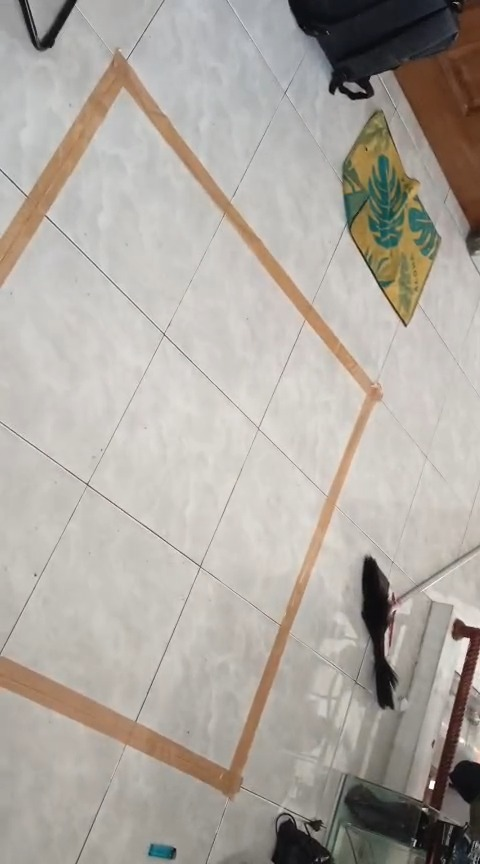floor marking: (0, 54, 380, 770), (0, 657, 139, 741), (147, 730, 226, 779)
